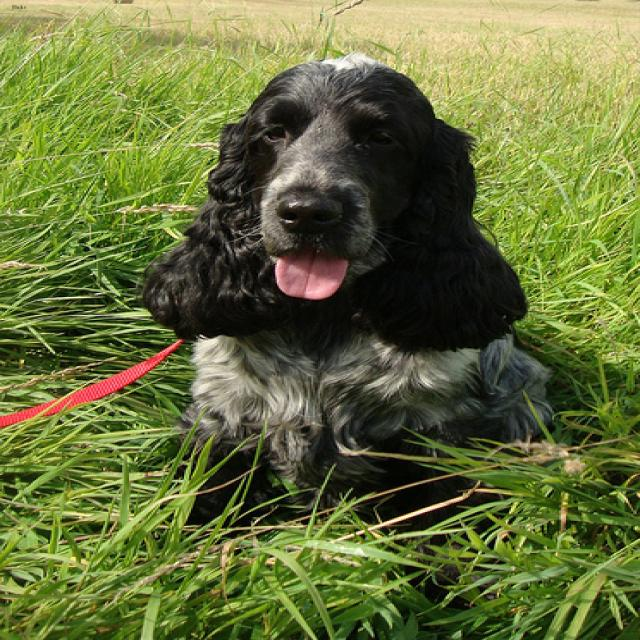dog-english_cocker_spaniel: (122, 42, 573, 613)
